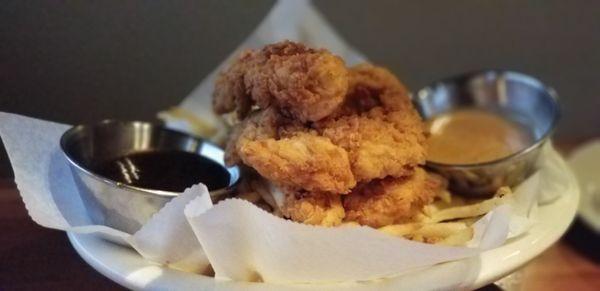soup: (209, 38, 457, 239)
sushi: (60, 120, 235, 236), (419, 68, 560, 200)
